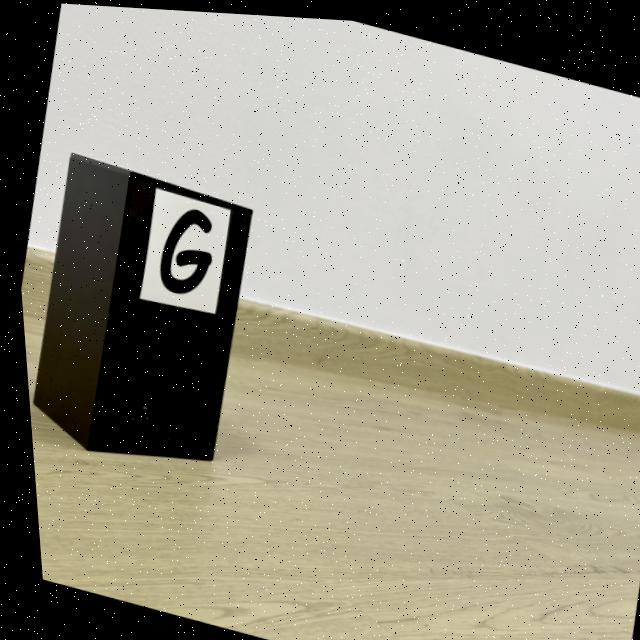G: (155, 206, 208, 292)
